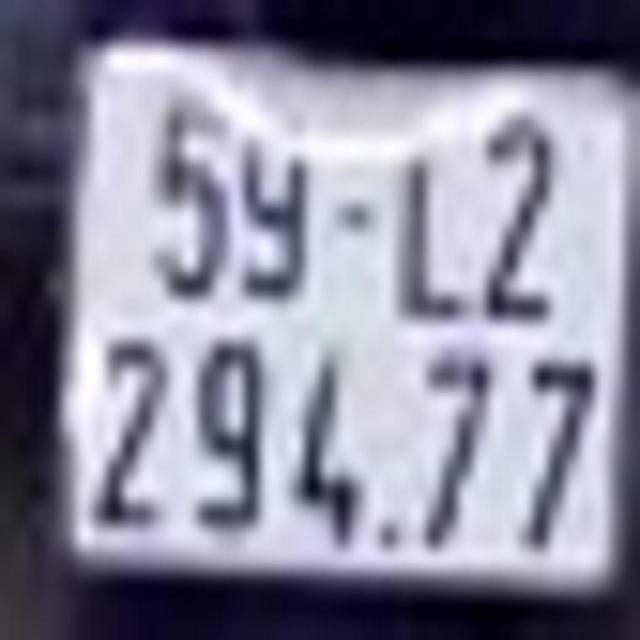2: (90, 332, 176, 534), (484, 114, 561, 329)
4: (296, 339, 366, 552)
5: (151, 104, 232, 299)
7: (514, 345, 600, 562), (410, 346, 494, 554)
9: (189, 330, 266, 541), (240, 106, 311, 312)
L: (396, 122, 474, 328)
